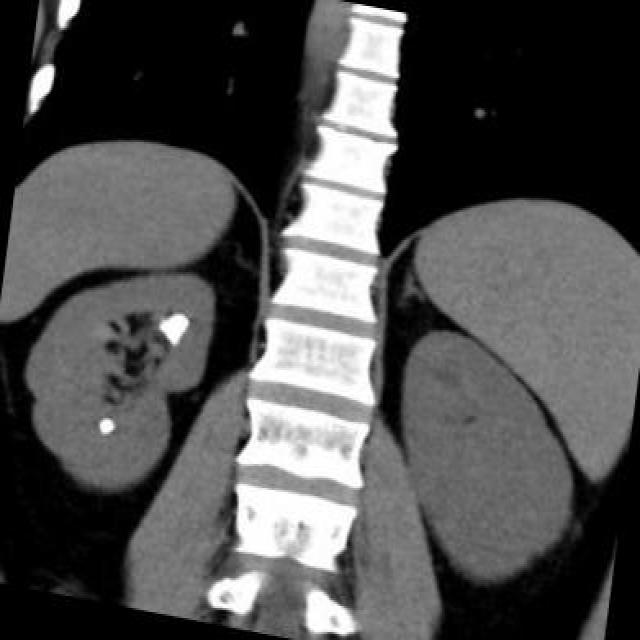Tas_Var: (152, 305, 192, 351), (88, 412, 116, 440)
